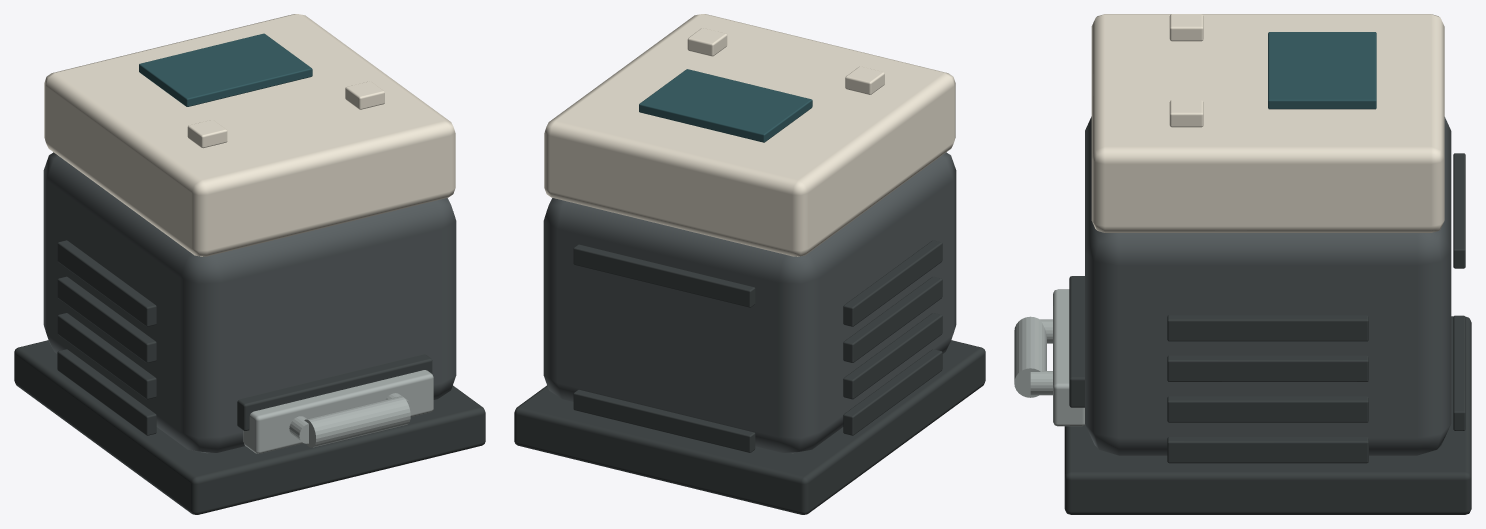
File: coffee-roastery-and-cupping-room-coffee-roastery-and-c-5cb84edb__32205.glb
The picture shows the model from 3 angles, left to right: view 1: azimuth 30°, elevation 25°; view 2: azimuth 150°, elevation 25°; view 3: azimuth 270°, elevation 25°; orthographic projection. The views are drawn at different scales.
Parts seen in each view (by area): view 1: coffee-roastery-and-cupping-room-roast-colour-analyzer; view 2: coffee-roastery-and-cupping-room-roast-colour-analyzer; view 3: coffee-roastery-and-cupping-room-roast-colour-analyzer.
Part boxes in pixels (bbox=[...]): coffee-roastery-and-cupping-room-roast-colour-analyzer: bbox=[14, 14, 485, 514]; coffee-roastery-and-cupping-room-roast-colour-analyzer: bbox=[514, 14, 985, 514]; coffee-roastery-and-cupping-room-roast-colour-analyzer: bbox=[1014, 14, 1471, 514].
Bounding box in the file's own units: 0.282 × 0.304 × 0.337.
